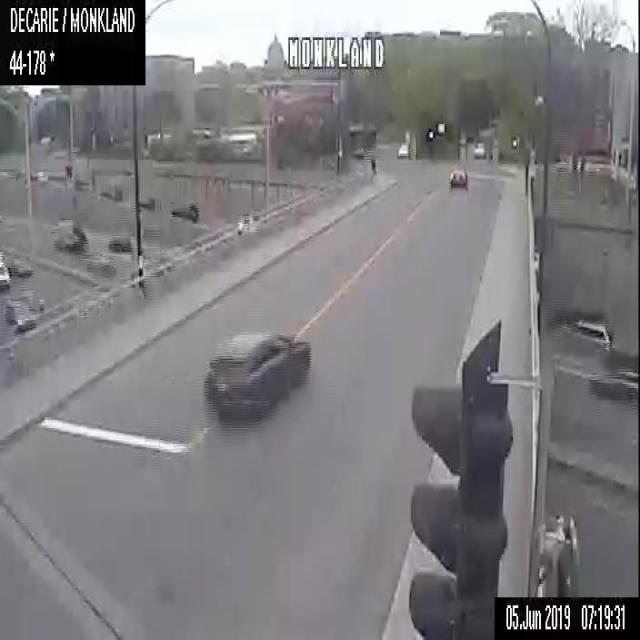pedestrian: (370, 155, 375, 180)
vehicle: (200, 328, 312, 420), (558, 318, 612, 354), (587, 367, 639, 400), (1, 293, 45, 327), (53, 222, 87, 255), (3, 248, 33, 275), (105, 233, 136, 255), (170, 202, 198, 222), (97, 185, 124, 203), (140, 191, 162, 212), (448, 167, 467, 188), (471, 139, 486, 160), (32, 167, 53, 181), (396, 142, 408, 158), (14, 167, 27, 180)
